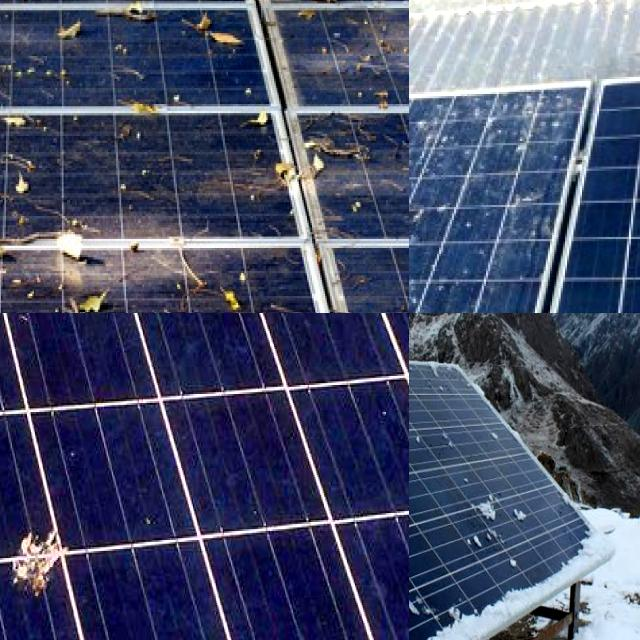bird: (5, 516, 79, 619), (409, 185, 452, 223), (498, 182, 548, 214), (409, 276, 435, 305)
panel: (465, 478, 541, 572), (570, 518, 616, 582), (495, 580, 565, 616), (436, 589, 489, 631), (409, 556, 440, 618), (409, 429, 476, 454), (421, 363, 462, 396), (409, 457, 439, 495), (409, 367, 439, 401), (492, 414, 515, 448), (409, 366, 438, 390), (409, 370, 432, 390)
